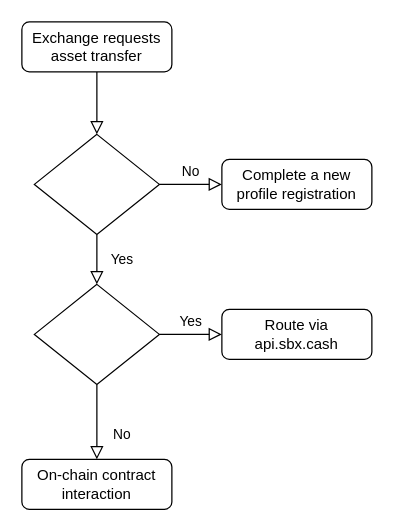
Some shapes in this 394 by 531 pixel diagram are drawn without their labels. The shapes that lost their labels are listed below. From the top down, each one's centre as x and y in pixels, then its label:
(96,183): Already registered?
(96,333): API request?
